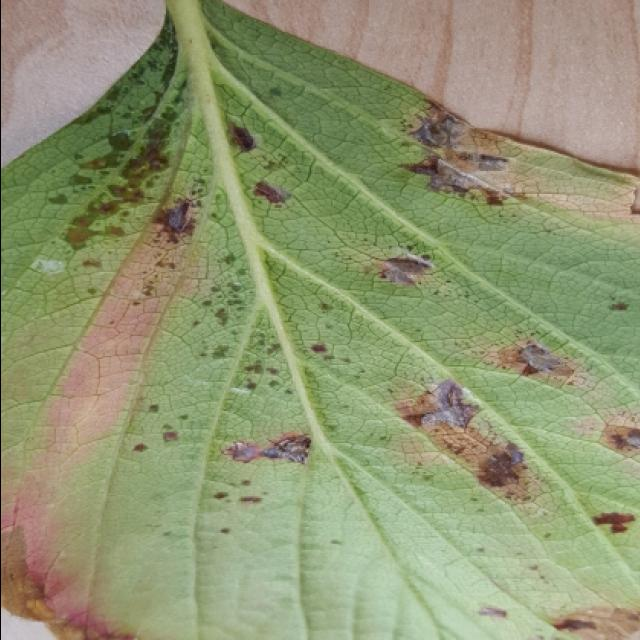Angular Leafspot: (2, 5, 640, 640)
